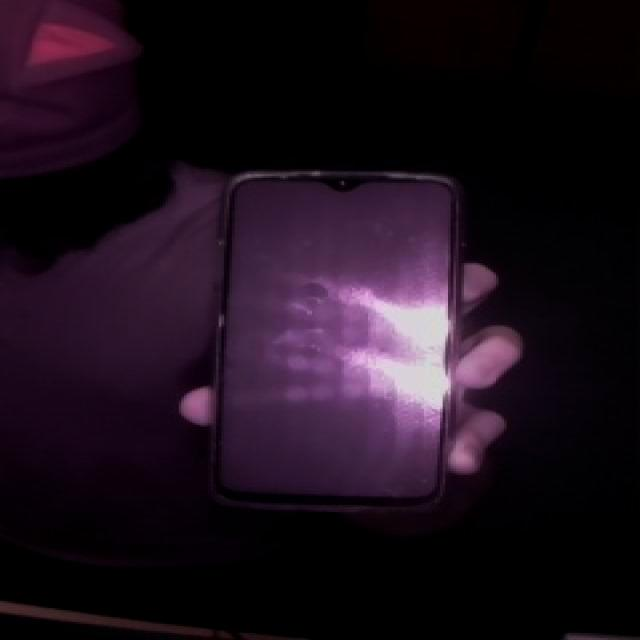phone: (193, 156, 486, 524)
